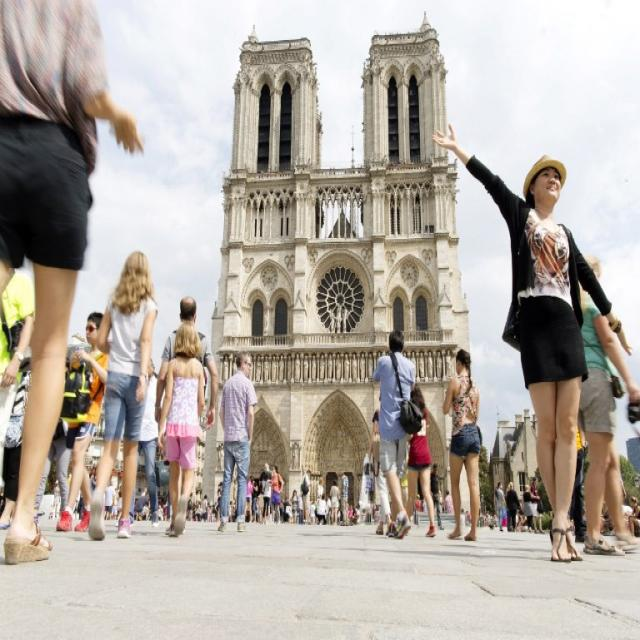body: (428, 116, 634, 564), (0, 0, 144, 562), (86, 247, 156, 542), (577, 251, 640, 556), (153, 294, 219, 502), (54, 309, 111, 535), (156, 320, 205, 534), (0, 235, 34, 532), (371, 327, 418, 541), (216, 346, 259, 534), (443, 347, 484, 543), (31, 356, 73, 532), (406, 384, 438, 540), (370, 390, 394, 538), (368, 406, 394, 536), (562, 421, 585, 545), (610, 463, 628, 535), (429, 461, 446, 532), (504, 481, 523, 532), (529, 474, 545, 534), (270, 463, 284, 525), (258, 461, 272, 522), (493, 480, 508, 532), (522, 482, 536, 532), (300, 468, 312, 525), (262, 469, 274, 524), (338, 468, 349, 526), (102, 476, 115, 525), (244, 473, 256, 525), (328, 477, 340, 526), (627, 495, 640, 540), (133, 490, 151, 522), (480, 498, 499, 528), (157, 490, 173, 522), (314, 491, 328, 526), (349, 500, 368, 525), (51, 478, 62, 521), (216, 481, 226, 527), (75, 490, 87, 524), (600, 501, 611, 537), (251, 476, 259, 522), (413, 485, 426, 512), (290, 488, 299, 526), (443, 488, 455, 515), (297, 491, 306, 525), (282, 494, 290, 528), (325, 492, 333, 526), (201, 494, 209, 524), (309, 498, 317, 528), (114, 487, 122, 517), (216, 487, 222, 526), (89, 462, 98, 487), (514, 507, 522, 535), (316, 476, 325, 500), (459, 506, 466, 536), (186, 491, 192, 526), (206, 500, 216, 521), (518, 510, 530, 527), (582, 496, 588, 530), (192, 498, 200, 521), (256, 477, 265, 497), (227, 499, 233, 524), (278, 498, 284, 520), (232, 498, 238, 518), (466, 509, 472, 528)
